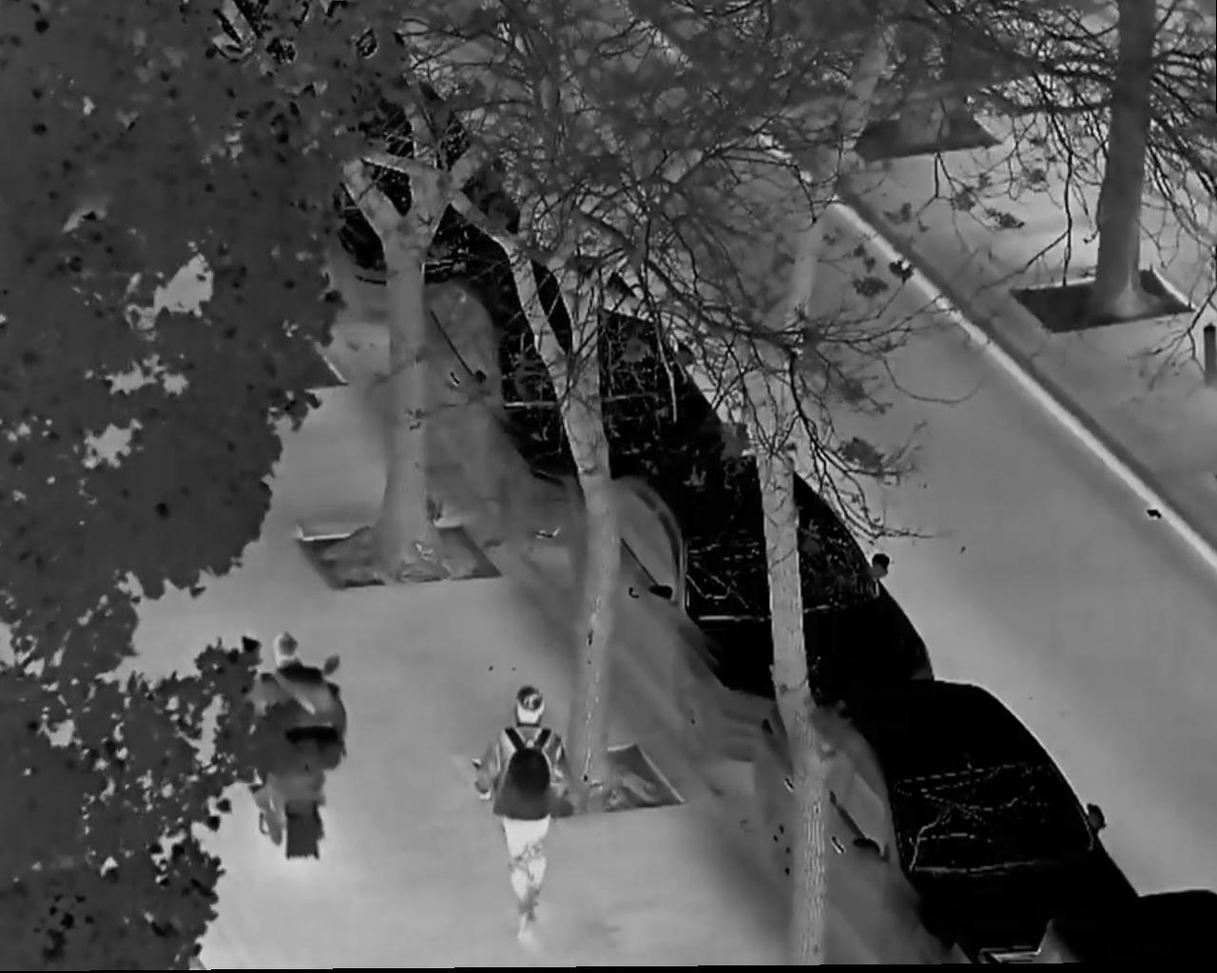person: (476, 685, 559, 935), (244, 634, 334, 823)
